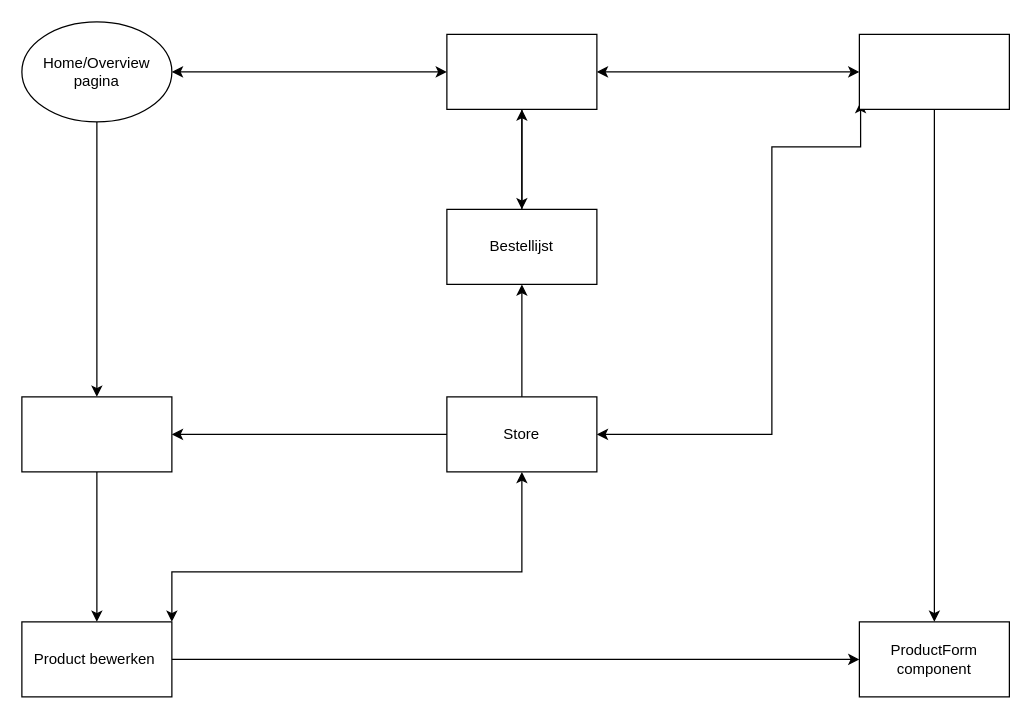
Image size: 1031x719. Some labels were removed from this diagram. The shapes that lost their labels are listed below. From the top down, each one's centre as x and y in pixels, then its label:
At pixel 521 71: "Navigatielinks".
At pixel 933 71: "Product toevegen".
At pixel 96 434: "ProductTable component".
